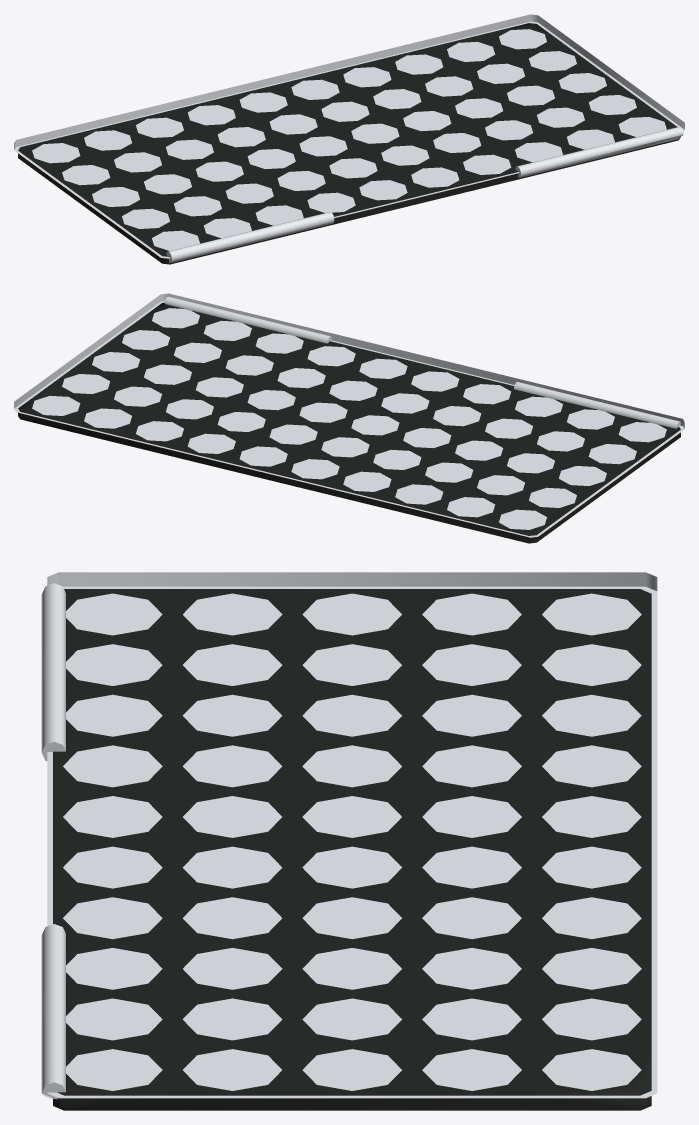
Rendered from makeup_make_up_pallete_ror5x7ndjb.glb.
3 views of the same model, one above another, from view 1: azimuth 30°, elevation 25°; view 2: azimuth 150°, elevation 25°; view 3: azimuth 270°, elevation 25° (orthographic). The views are drawn at different scales.
Parts seen in each view (by area): view 1: make up_pallete.007, make up_pallete_cover.007; view 2: make up_pallete.007, make up_pallete_cover.007; view 3: make up_pallete.007, make up_pallete_cover.007.
Boxes of the visible parts, x1,y1,x2,y2 form: make up_pallete.007: [18, 23, 683, 264]; make up_pallete_cover.007: [14, 14, 684, 258]; make up_pallete.007: [18, 296, 680, 543]; make up_pallete_cover.007: [14, 293, 684, 537]; make up_pallete.007: [41, 583, 651, 1110]; make up_pallete_cover.007: [47, 572, 657, 1098].
Size of the model in its own units: 46.43 by 1.25 by 23.6.
2 materials, 2 textured.
